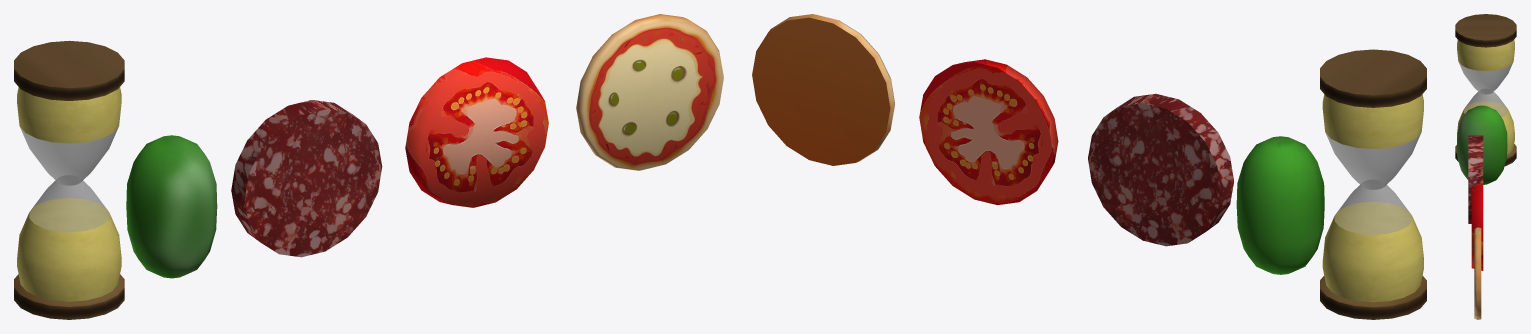
The model's file is toppings.FBX.
The picture shows the model from 3 angles, left to right: view 1: azimuth 30°, elevation 25°; view 2: azimuth 150°, elevation 25°; view 3: azimuth 270°, elevation 25°; orthographic projection. The views are drawn at different scales.
Visible parts, largest first — view 1: clock, pepperoni, pizza, tomato, olive; view 2: clock, pepperoni, pizza, tomato, olive; view 3: clock, olive, pepperoni, tomato, pizza.
Boxes of the visible parts, x1,y1,x2,y2 form: clock: (14,40,124,319); pepperoni: (231,100,382,257); pizza: (576,14,723,170); tomato: (405,57,548,207); olive: (126,135,217,278); clock: (1320,49,1426,319); pepperoni: (1088,93,1233,246); pizza: (752,14,894,165); tomato: (919,59,1058,205); olive: (1236,136,1324,274); clock: (1455,14,1516,166); olive: (1457,105,1507,184); pepperoni: (1468,135,1483,223); tomato: (1471,183,1483,270); pizza: (1474,227,1481,319).
Bounding box in the file's own units: 59 × 8.12 × 19.29.
